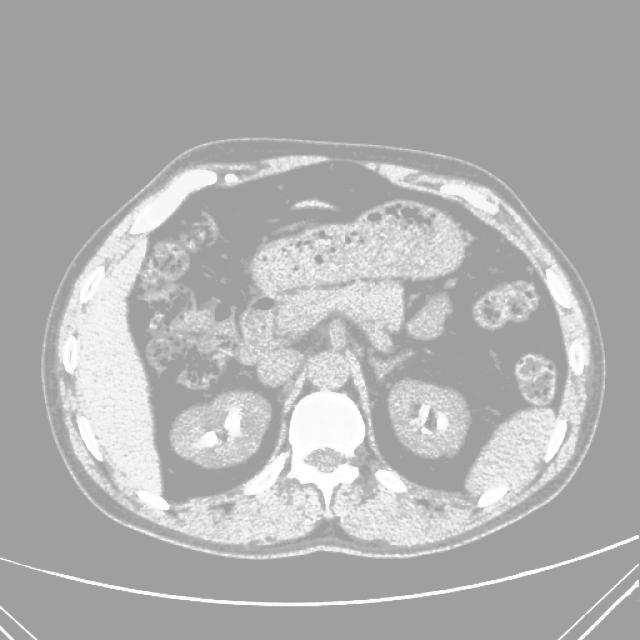STONE: (129, 277, 464, 493)
